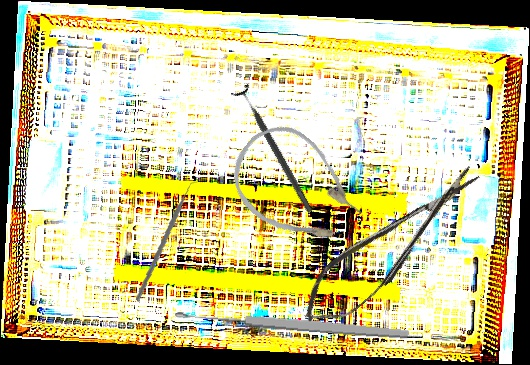Cannula: (215, 110, 378, 267)
Chopper: (122, 179, 216, 302)
Fixation Ring: (229, 83, 320, 217)
Micro Scissor: (288, 155, 496, 338)
Surgical Spoon: (173, 306, 411, 342)
